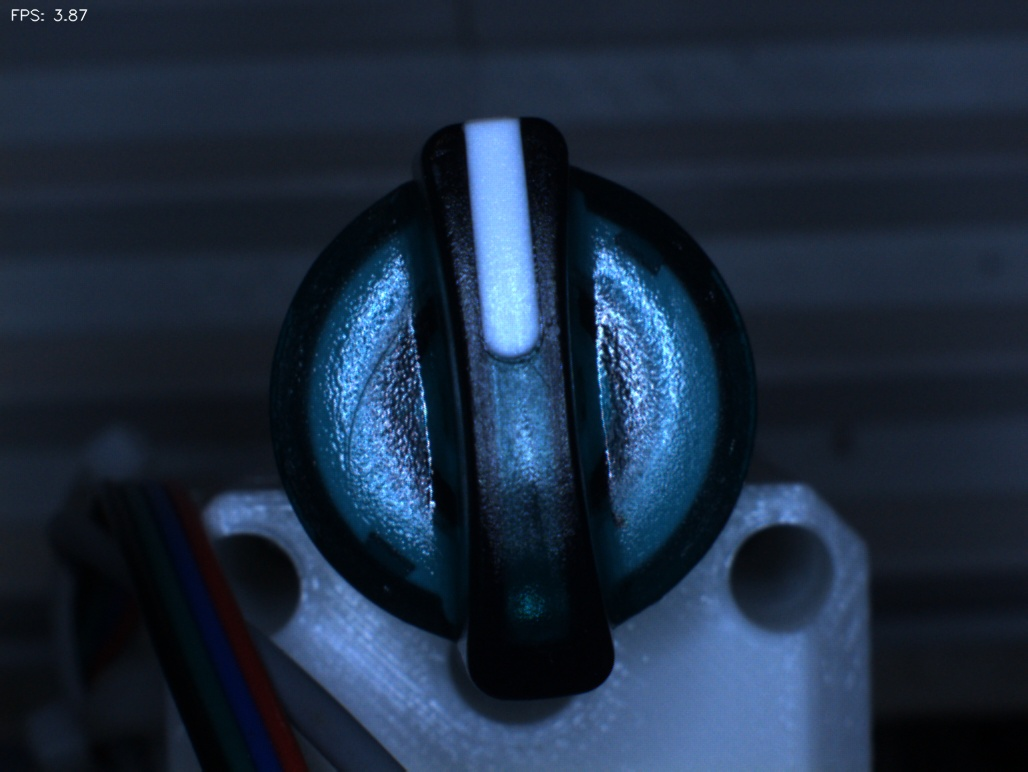PointNoir: (596, 490, 653, 555)
